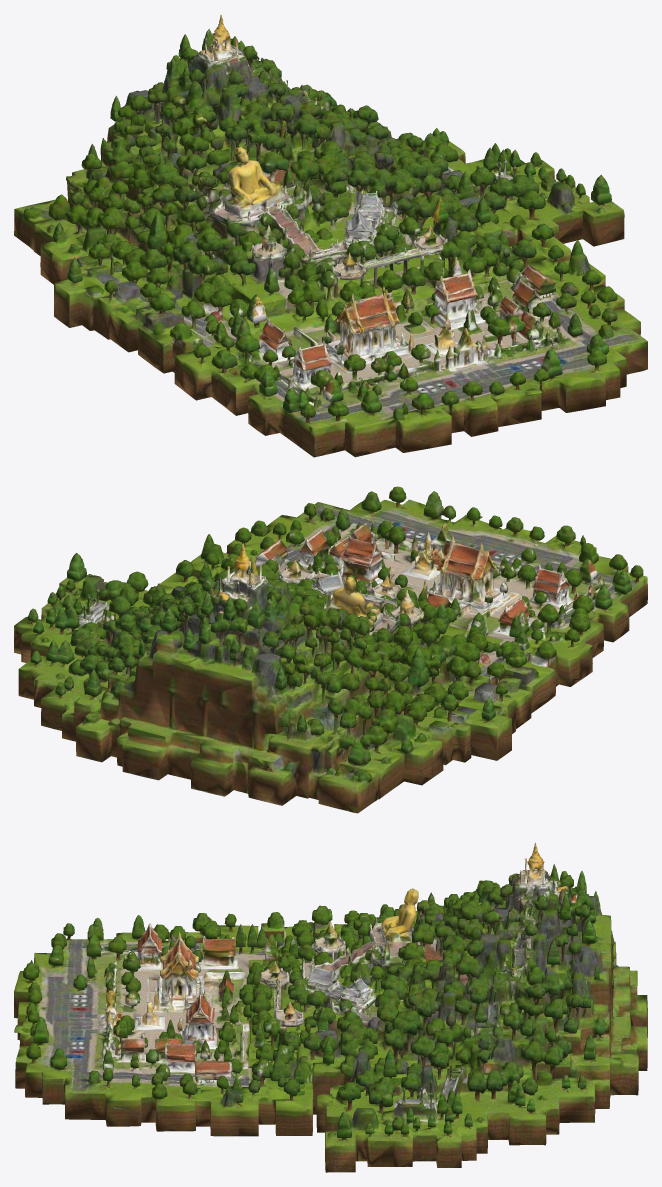
Rendered from khao-wong.ar.glb.
3 renders of one model, top to bottom at view 1: azimuth 30°, elevation 25°; view 2: azimuth 150°, elevation 25°; view 3: azimuth 270°, elevation 25°, orthographic. The views are drawn at different scales.
Size of the model in its own units: 0.3443 by 0.138 by 0.4.
Materials: 1 (1 with a texture image).
